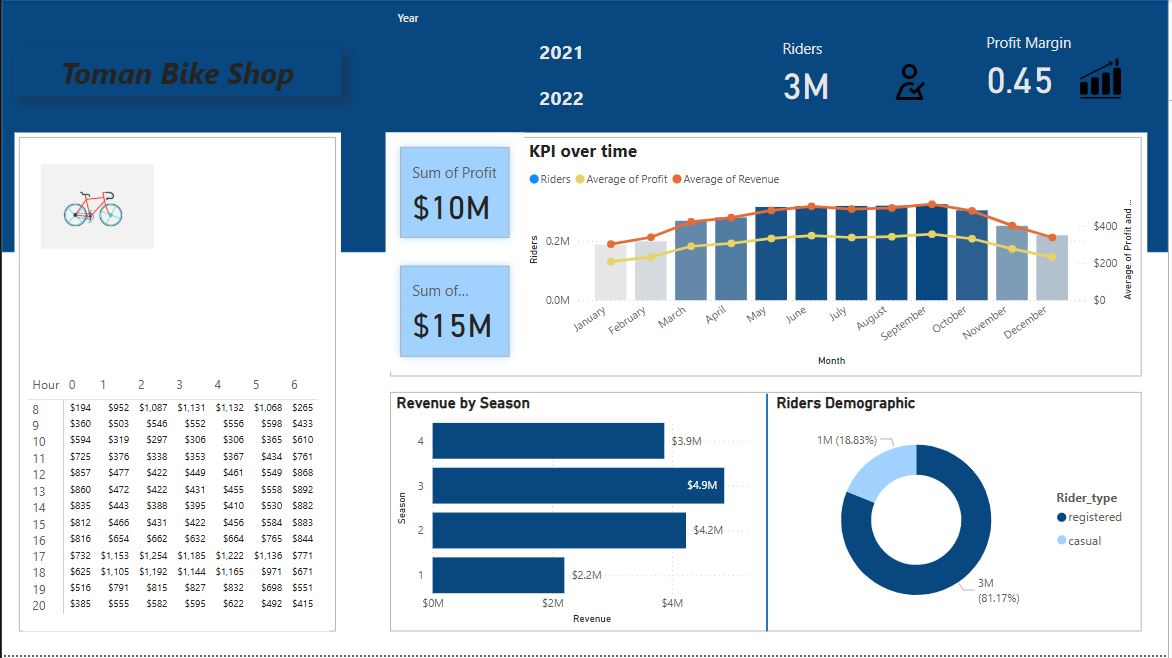

The page's visual inventory and layout, read from the dashboard file:
{"tool":"powerbi","page":{"name":"Page 1","canvas":[1280,720],"ordinal":0},"visuals":[{"type":"shape","box":[0,0,1280.3,277.2],"z":0},{"type":"cardVisual","fields":{"Data":["Sum(Bike_Share.Riders)"]},"box":[13.7,145.5,358.1,553],"z":1000},{"type":"cardVisual","fields":{"Data":["Sum(Bike_Share.Riders)"]},"box":[421.3,145.8,835.7,273.1],"z":2000},{"type":"cardVisual","fields":{"Data":["Sum(Bike_Share.Riders)"]},"box":[421.3,425.4,835.7,273.1],"z":3000},{"type":"cardVisual","fields":{"Data":["Sum(Bike_Share.Riders)"]},"box":[22,152.3,170.2,153.7],"z":4000},{"type":"pivotTable","fields":{"Rows":["Bike_Share.Hour"],"Values":["Avg(Bike_Share.Revenue)"],"Columns":["Bike_Share.Weekday"]},"box":[23.3,407.5,336.2,285.4],"z":5000},{"type":"lineClusteredColumnComboChart","title":"KPI over time","fields":{"Y":["Sum(Bike_Share.Riders)"],"Category":["Bike_Share.Date","Bike_Share.Date.Variation.Date Hierarchy.Year","Bike_Share.Date.Variation.Date Hierarchy.Month"],"Y2":["Avg(Bike_Share.Profit)","Avg(Bike_Share.Revenue)"]},"box":[573.6,152.7,673.8,255.2],"z":6000},{"type":"clusteredBarChart","fields":{"Category":["Bike_Share.Season"],"Y":["Sum(Bike_Share.Revenue)"]},"box":[428.1,432.2,411.7,258],"z":7000},{"type":"donutChart","title":"Riders Demographic","fields":{"Category":["Bike_Share.Rider_type"],"Y":["Sum(Bike_Share.Riders)"]},"box":[845.3,432.2,402.1,258],"z":8000},{"type":"shape","box":[834.3,432.2,11,260.7],"z":9000},{"type":"cardVisual","title":"KPI over time","fields":{"Data":["Sum(Bike_Share.Profit)","Sum(Bike_Share.Revenue)"]},"box":[421.3,145.8,152.3,262.1],"z":10000},{"type":"cardVisual","title":"KPI over time","fields":{"Data":["Bike_Share.Profit Margin"]},"box":[1063.5,0,183.9,145.5],"z":11000},{"type":"cardVisual","title":"KPI over time","fields":{"Data":["Sum(Bike_Share.Riders)"]},"box":[839.8,6.9,200.3,145.5],"z":11001},{"type":"slicer","title":"KPI over time","fields":{"Values":["Bike_Share.Year"]},"box":[421.3,6.9,384.2,131.7],"z":11002},{"type":"textbox","box":[13.7,53.5,358.1,52.1],"z":11003}]}

Visuals, with their boxes in screenshot pixels (x1, y1, x2, y2), scaled from the page's 1280x720 canvas onto the 1172x658 screenshot:
shape: box=[0, 0, 1171, 253]
cardVisual - Sum(Bike_Share.Riders): box=[13, 133, 340, 638]
cardVisual - Sum(Bike_Share.Riders): box=[386, 133, 1151, 383]
cardVisual - Sum(Bike_Share.Riders): box=[386, 389, 1151, 638]
cardVisual - Sum(Bike_Share.Riders): box=[20, 139, 176, 280]
pivotTable - Bike_Share.Hour x Avg(Bike_Share.Revenue): box=[21, 372, 329, 633]
"KPI over time" lineClusteredColumnComboChart: box=[525, 140, 1142, 373]
clusteredBarChart - Bike_Share.Season x Sum(Bike_Share.Revenue): box=[392, 395, 769, 631]
"Riders Demographic" donutChart: box=[774, 395, 1142, 631]
shape: box=[764, 395, 774, 633]
"KPI over time" cardVisual: box=[386, 133, 525, 373]
"KPI over time" cardVisual: box=[974, 0, 1142, 133]
"KPI over time" cardVisual: box=[769, 6, 952, 139]
"KPI over time" slicer: box=[386, 6, 738, 127]
textbox: box=[13, 49, 340, 97]
